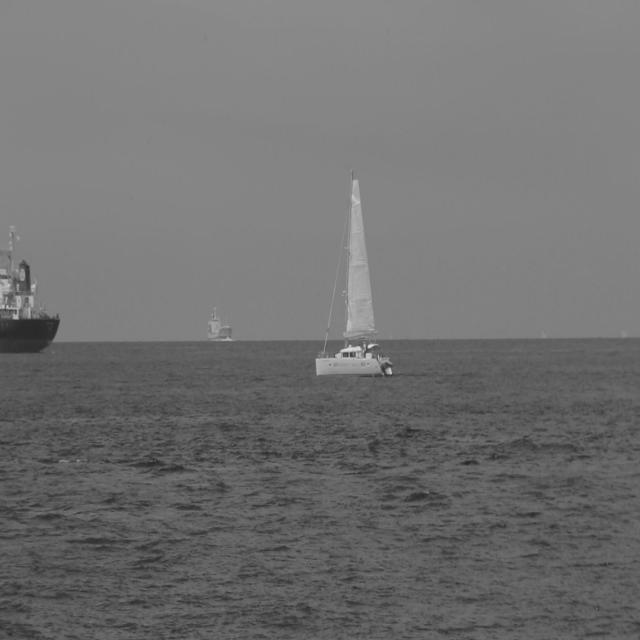ship: (318, 165, 398, 376), (0, 238, 61, 361), (206, 310, 236, 344)
